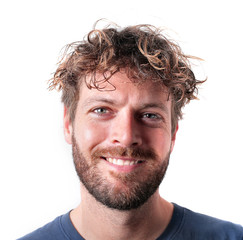young: (54, 26, 207, 207)
